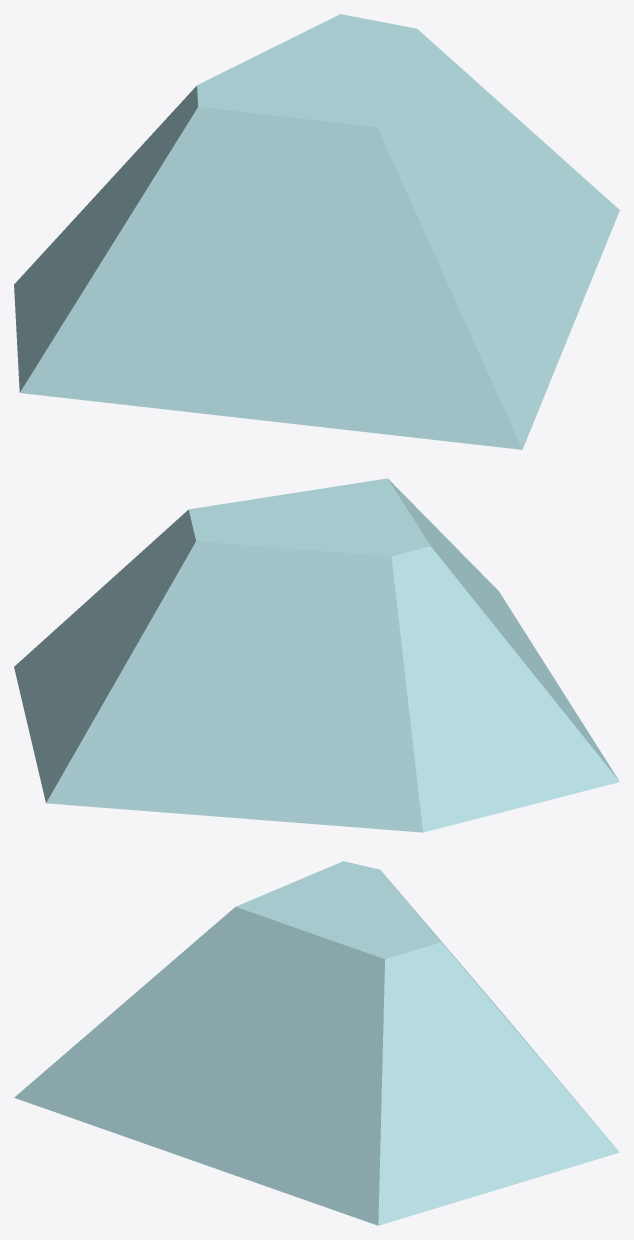
Rendered from stone_smallC.dae.
The picture shows the model from 3 angles, top to bottom: view 1: azimuth 30°, elevation 25°; view 2: azimuth 150°, elevation 25°; view 3: azimuth 270°, elevation 25°; orthographic projection. The views are drawn at different scales.
Visible parts, largest first — view 1: stone_smallC; view 2: stone_smallC; view 3: stone_smallC.
Boxes of the visible parts, left/top/right/bottom form: stone_smallC: left=14, top=14, right=619, bottom=449; stone_smallC: left=14, top=478, right=619, bottom=832; stone_smallC: left=14, top=861, right=619, bottom=1225.
Bounding box in the file's own units: 0.3608 × 0.1227 × 0.3608.
